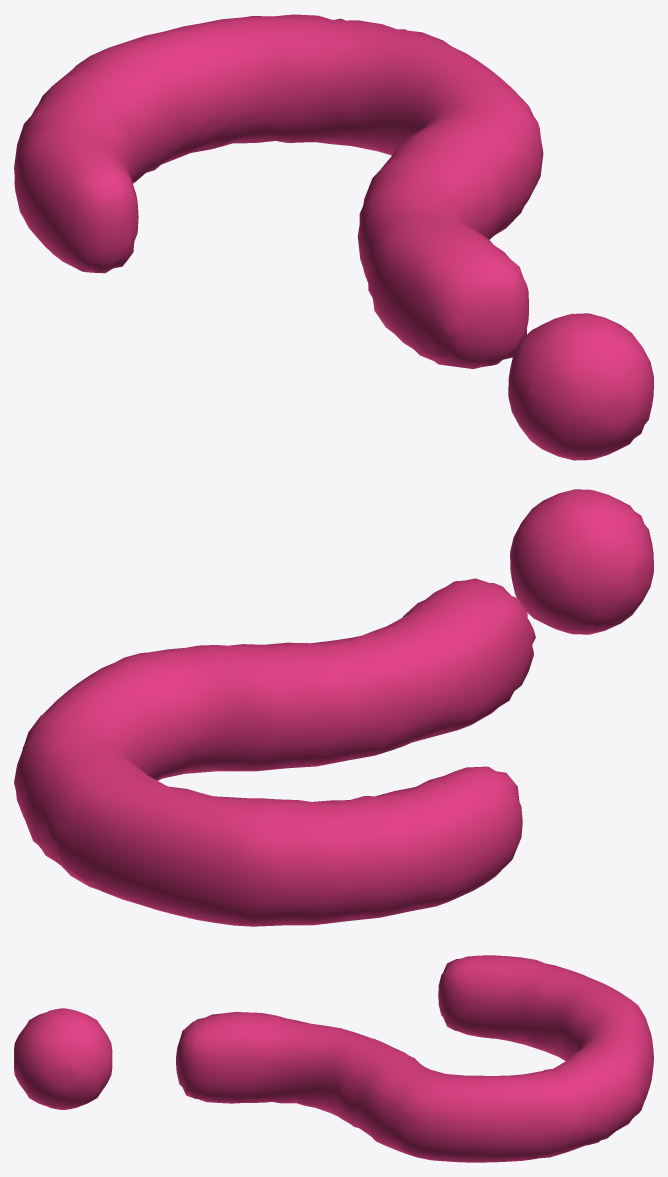
File: bigQuestionmark.glb
3 views of the same model, one above another, from view 1: azimuth 30°, elevation 25°; view 2: azimuth 150°, elevation 25°; view 3: azimuth 270°, elevation 25° (orthographic). The views are drawn at different scales.
Visible parts, largest first — view 1: dot; view 2: dot; view 3: dot.
Boxes of the visible parts, left/top/right/bottom form: dot: left=14, top=14, right=653, bottom=460; dot: left=14, top=489, right=653, bottom=926; dot: left=14, top=955, right=653, bottom=1162.
Bounding box in the file's own units: 6.99 × 1.87 × 12.22.
